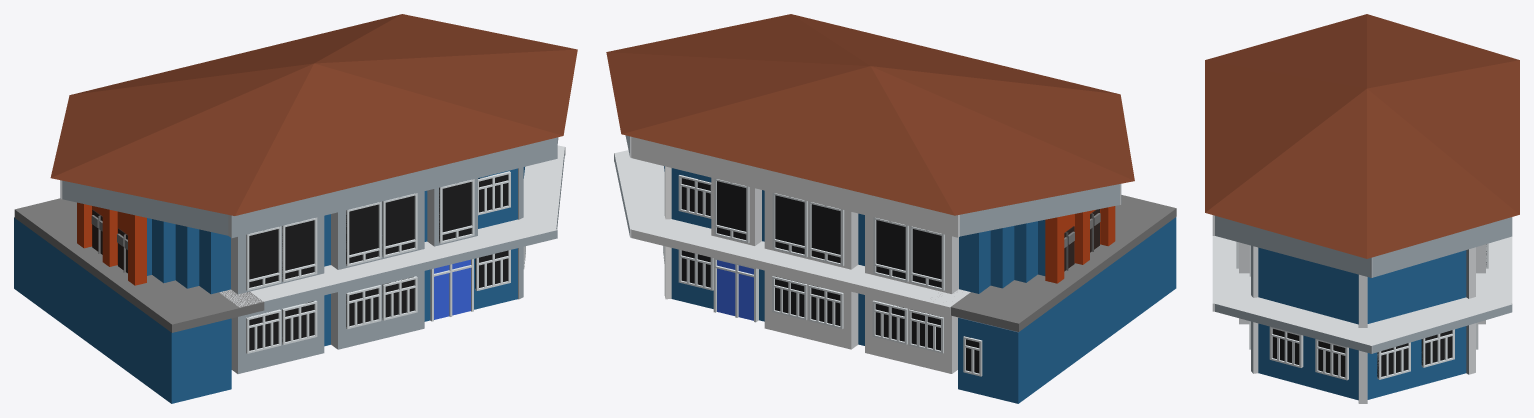
File: Finster.glb
3 renders of one model, left to right at view 1: azimuth 30°, elevation 25°; view 2: azimuth 150°, elevation 25°; view 3: azimuth 270°, elevation 25°, orthographic. The views are drawn at different scales.
Visible parts, largest first — view 1: cone; view 2: cone; view 3: cone.
Part boxes in pixels (x1=…): cone: x1=14, y1=14, x2=577, y2=403; cone: x1=606, y1=14, x2=1176, y2=403; cone: x1=1205, y1=14, x2=1519, y2=403.
Size of the model in its own units: 8.22 by 3.38 by 4.46.
Materials: 17 (16 with a texture image).
